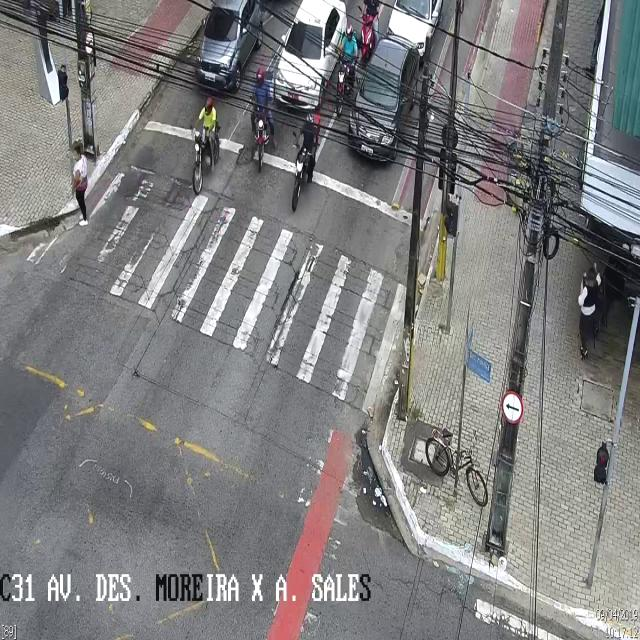Car: (348, 38, 418, 164), (272, 1, 346, 106), (196, 1, 262, 89), (384, 0, 454, 63)
Motorcycle: (188, 97, 220, 195), (250, 63, 278, 173), (290, 114, 320, 209), (335, 25, 357, 119), (358, 2, 376, 58)
